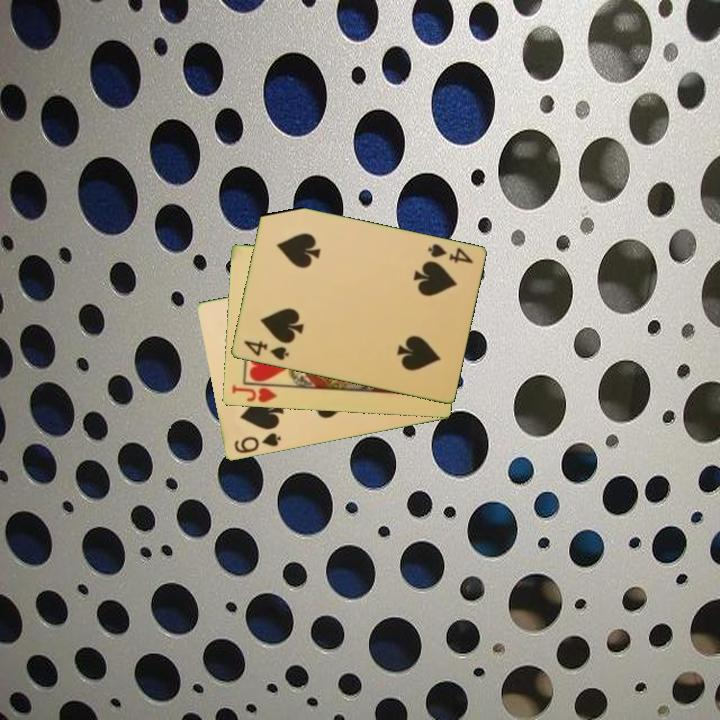4s: (240, 337, 292, 363), (424, 241, 476, 267)
6s: (230, 430, 283, 457)
Jh: (228, 381, 279, 406)
